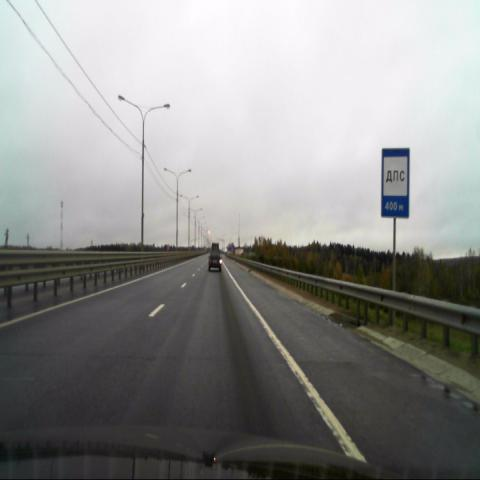7_12: (380, 147, 409, 219)
